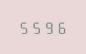five: (18, 20, 29, 34), (30, 20, 41, 34)
nine: (42, 20, 53, 34)
six: (54, 20, 65, 34)
